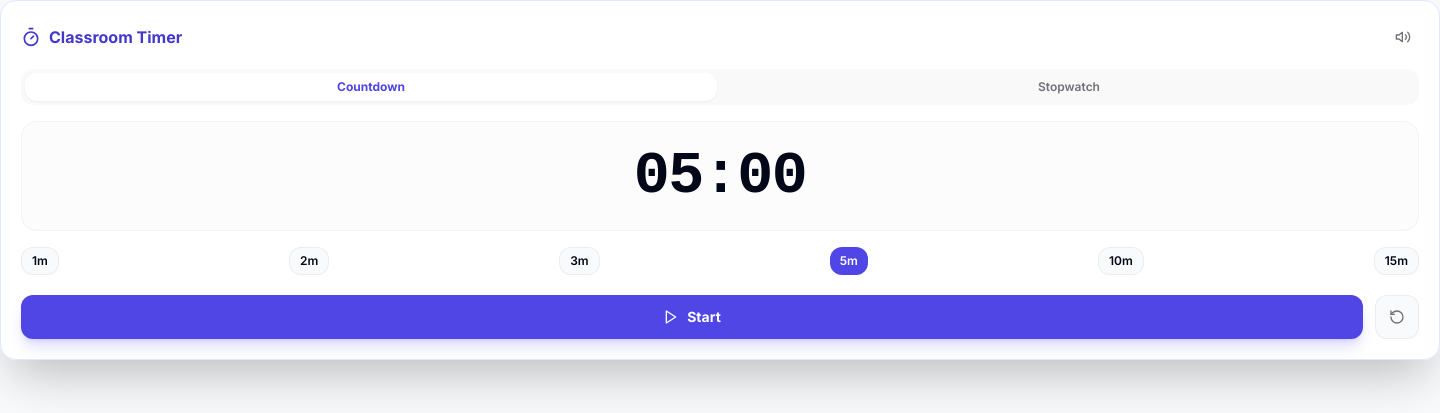
Test: ClassroomTimer Component › changes time when preset is clicked
This screenshot has width=1440, height=413.
Click the button "1m" at point(40, 261), box top-left (21, 247), bottom-right (59, 275)
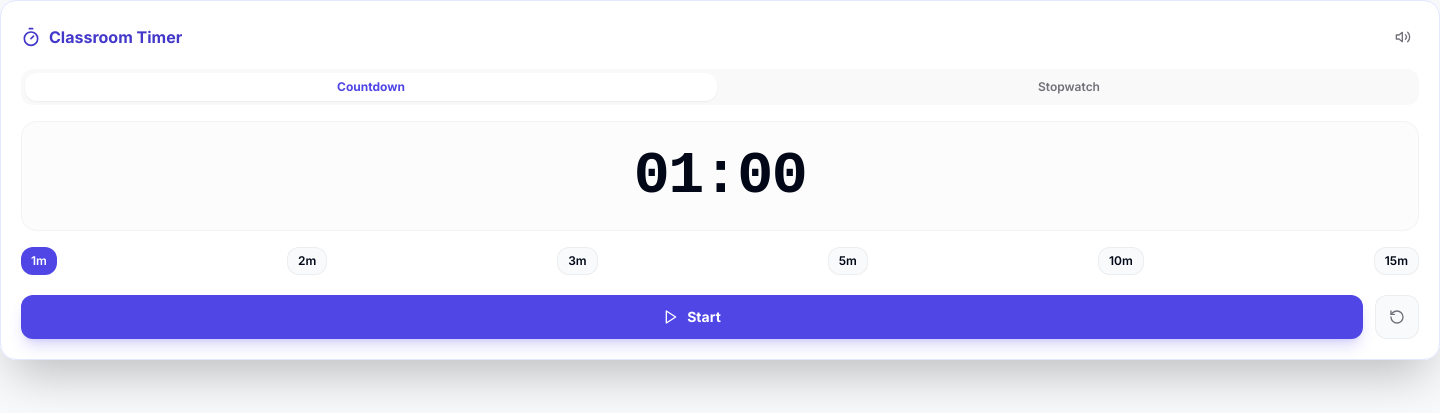
Check: the text "01:00" is shown, box top-left (634, 146), bottom-right (806, 206)
